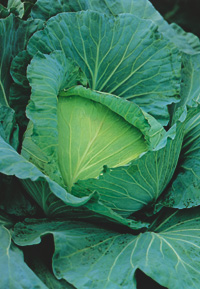cabbage: (56, 93, 149, 193)
